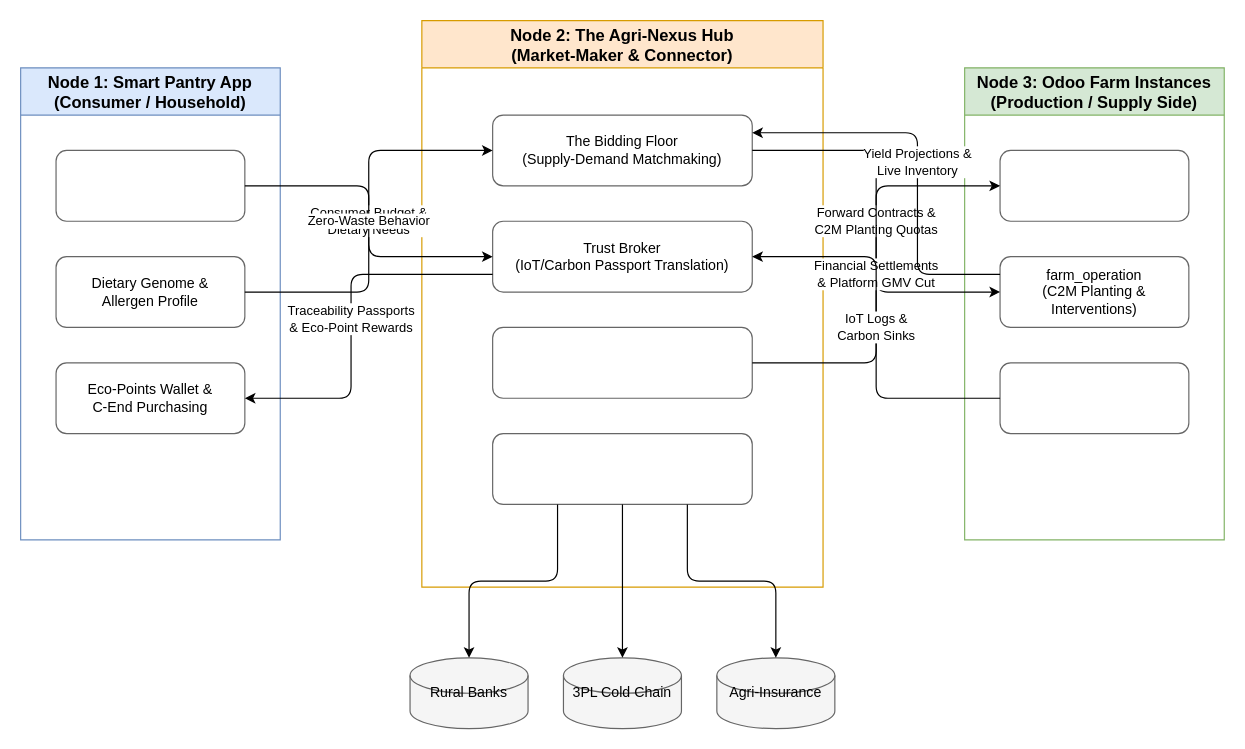
This 1245x749 diagram has some shape labels left out. Each missing label, with the centre of its shape:
"Digital Inventory & Expiry Tracker" belongs at (x=150, y=185).
"farm_iot & farm_esg (Traceability & Carbon Ledger)" belongs at (x=1094, y=398).
"farm_multi_farm (Cooperatives & Settlements)" belongs at (x=1094, y=185).
"Logistics Routing & Payment Gateway" belongs at (x=621, y=362).
"Open API Connector (Banks / Insurers / Cold Chain)" belongs at (x=621, y=468).
